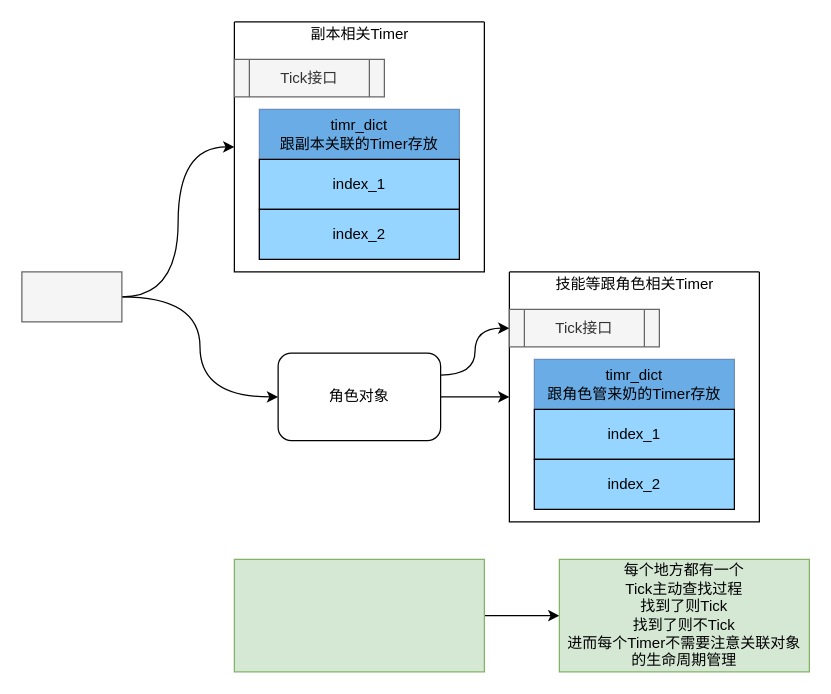
The diagram is 831 pixels wide and 694 high, and some of its shapes have lost their labels. Each missing label, with the centre of its shape:
"每个时间管理结构 仔细划分关联周期 通过固定的Tick接口 更新关联的TimerManager" goes at (358,615).
"统一Tick接口" goes at (71,296).
